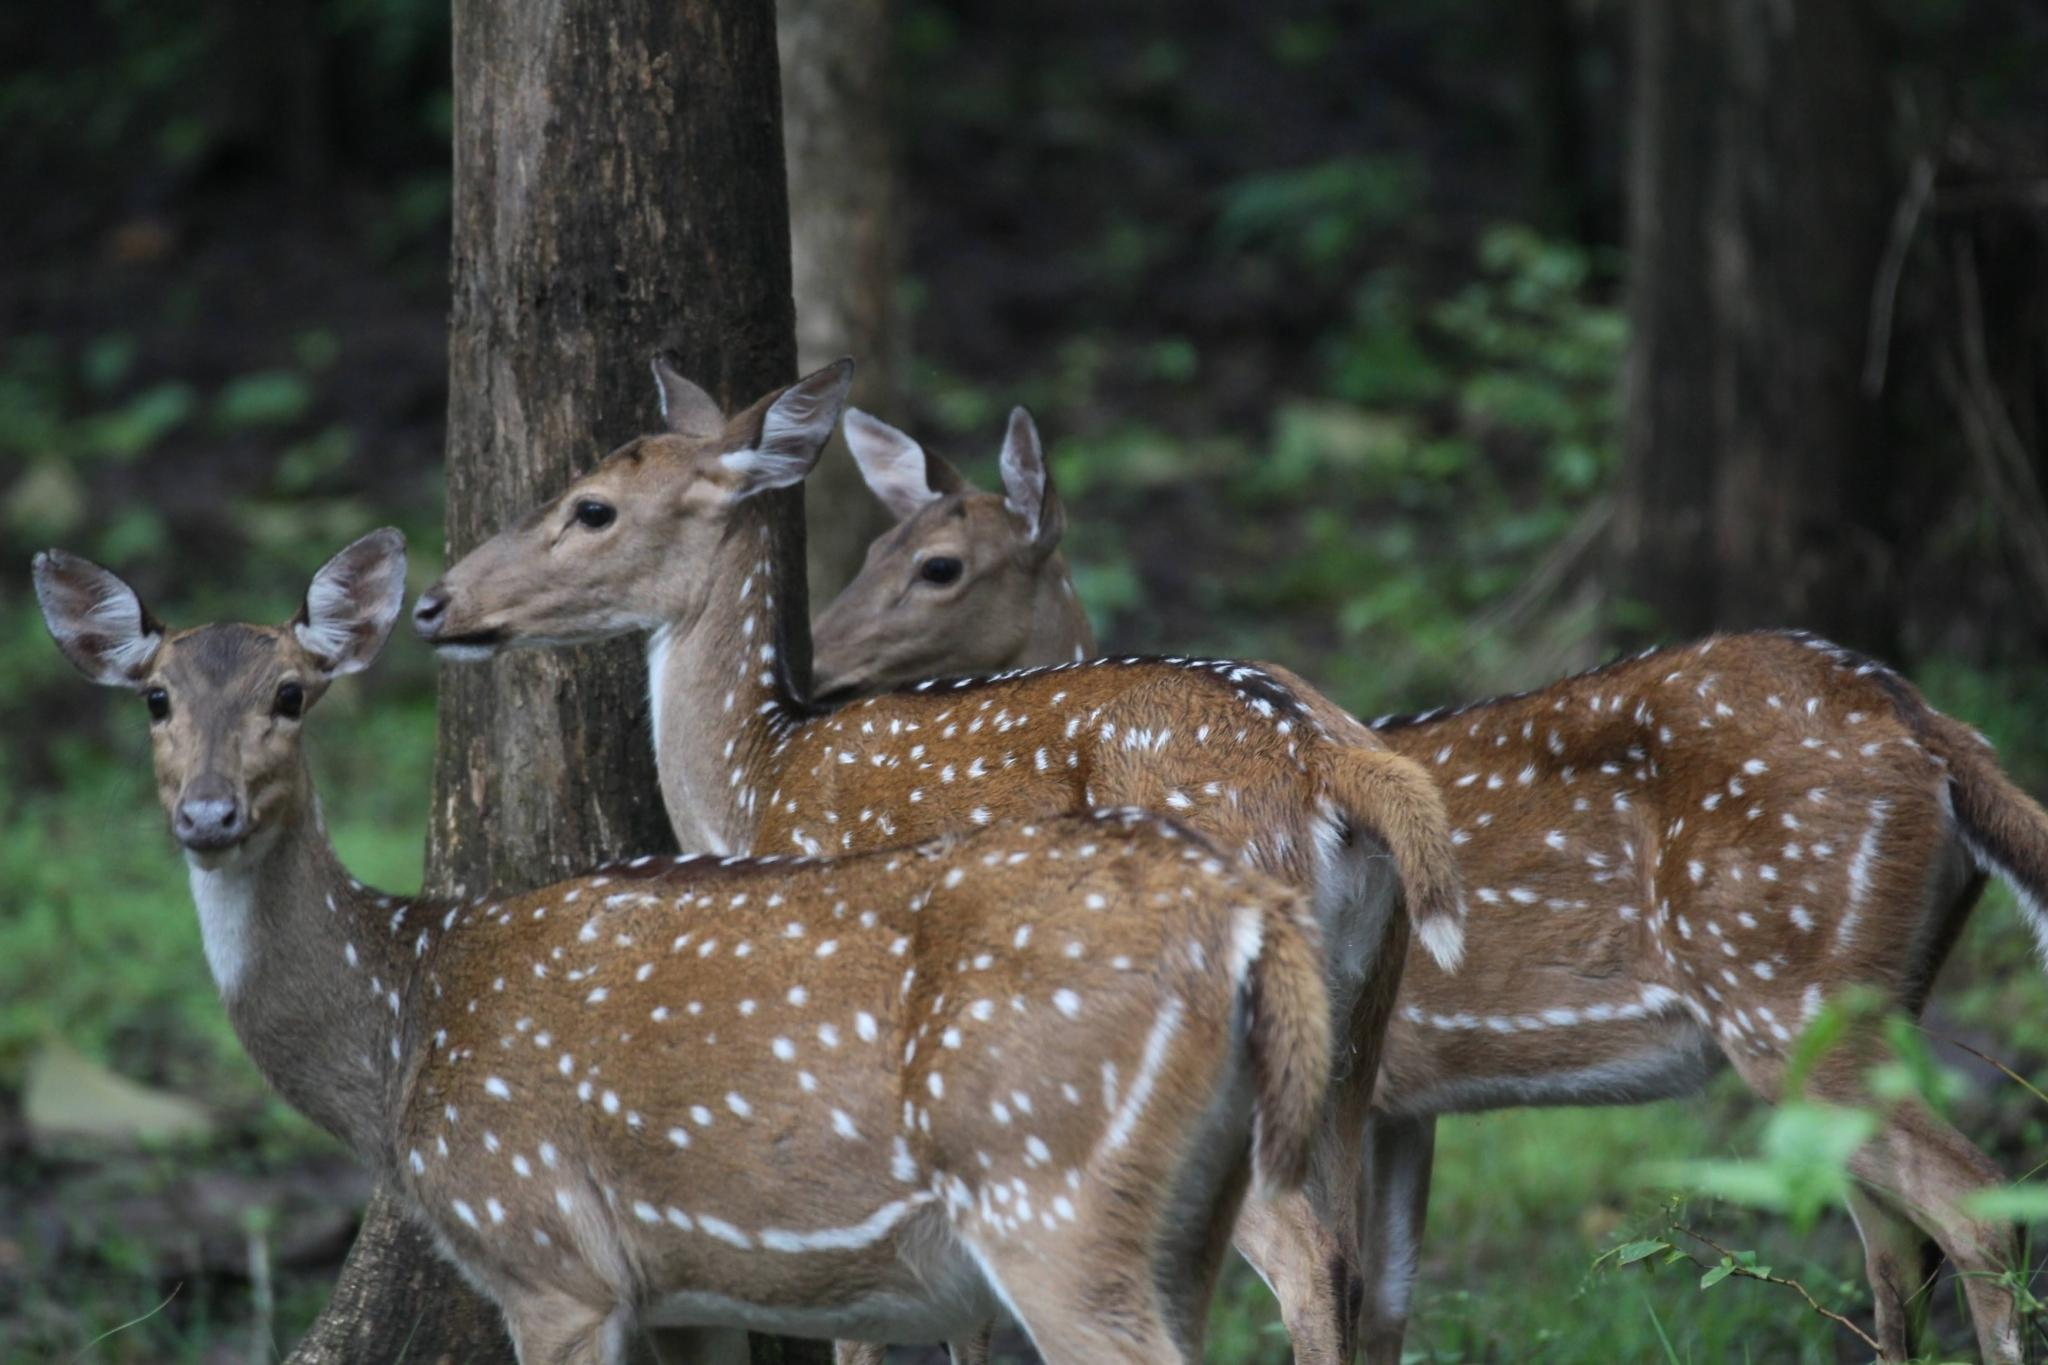Deer: (35, 532, 1335, 1363), (414, 360, 1462, 1363), (813, 407, 1095, 698)
